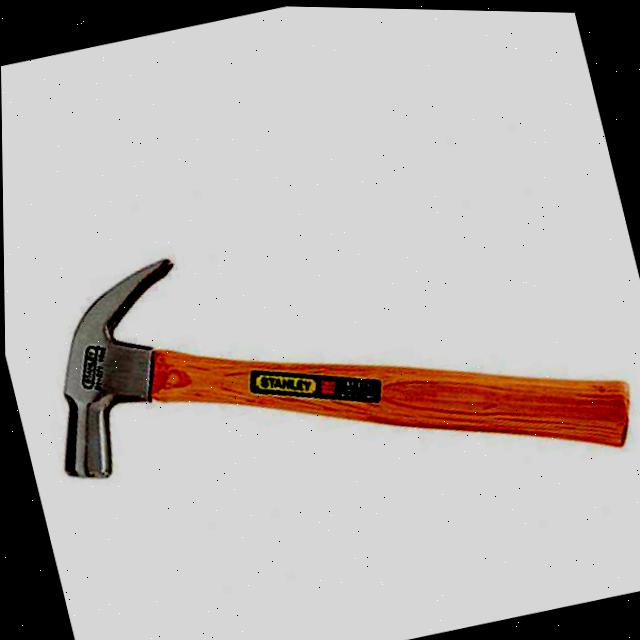hammer: (9, 148, 640, 593)
